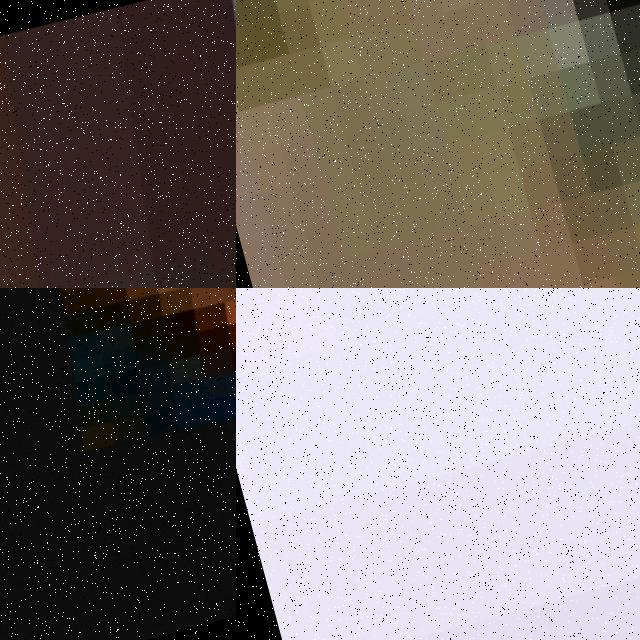drone: (0, 288, 236, 640), (0, 0, 236, 288)
